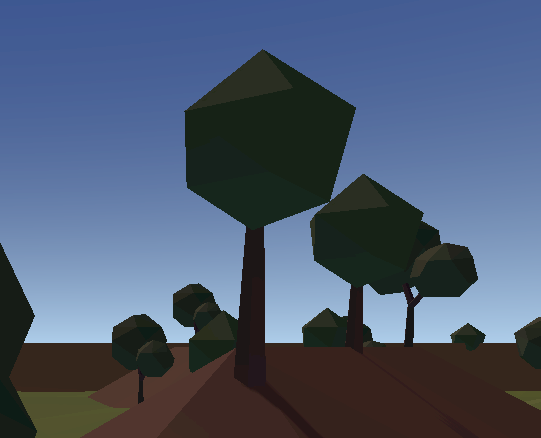tree: (181, 45, 360, 381), (308, 166, 425, 347), (369, 206, 480, 344), (1, 238, 44, 438), (106, 307, 175, 403), (184, 307, 239, 372), (168, 277, 221, 340), (300, 304, 347, 349), (511, 311, 541, 373), (446, 323, 485, 346)
